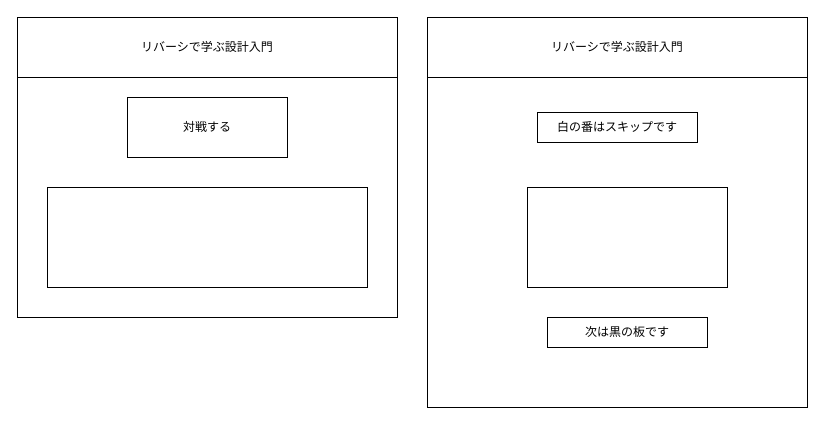
This 825x425 diagram has some shape labels left out. The shapes that lost their labels are listed below. From the top down, each one's box as (x1, y1, x2, y2) in pixels, then its label:
(46, 186, 368, 288): 過去の対戦結果
(526, 186, 728, 288): 盤面
